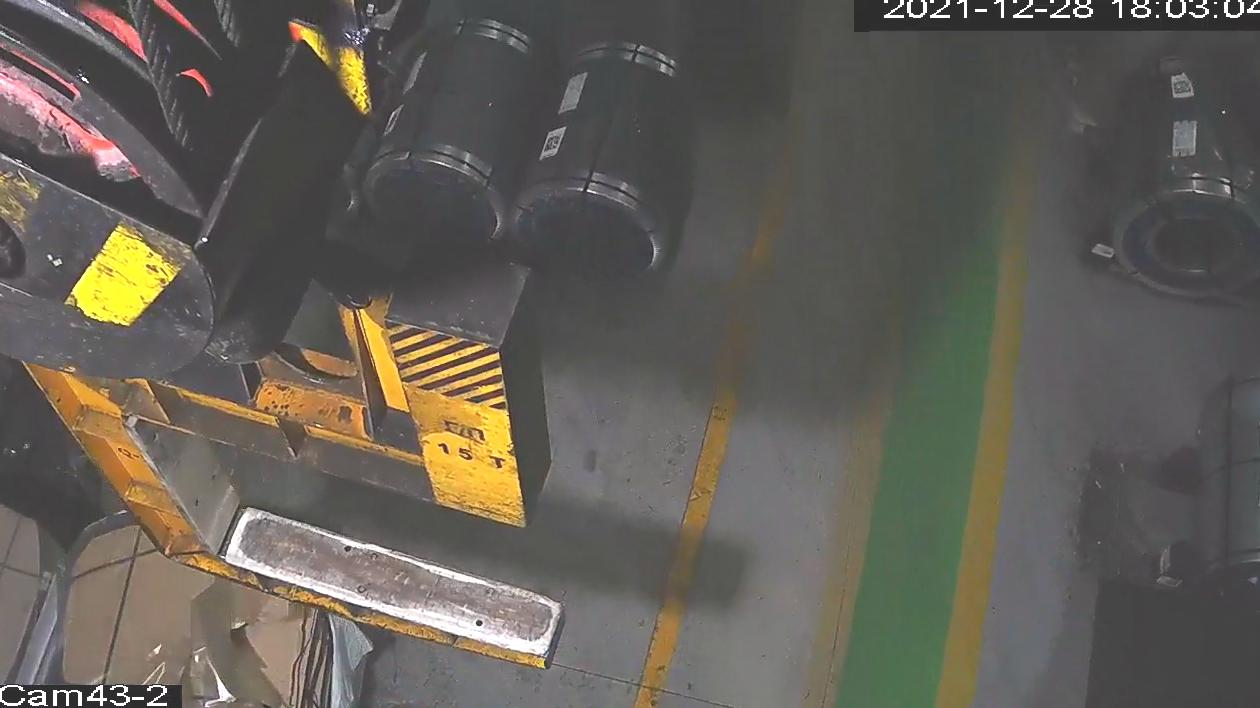data matrix: (542, 133, 564, 154), (1172, 79, 1194, 97)
